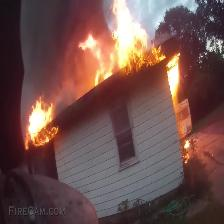fire: (105, 5, 156, 67), (27, 102, 58, 144)
smoke: (28, 3, 81, 83)
